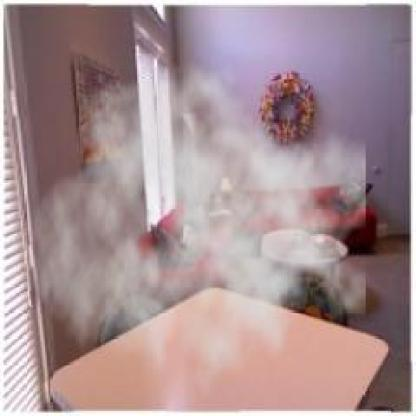Smoke: (30, 49, 368, 414)
